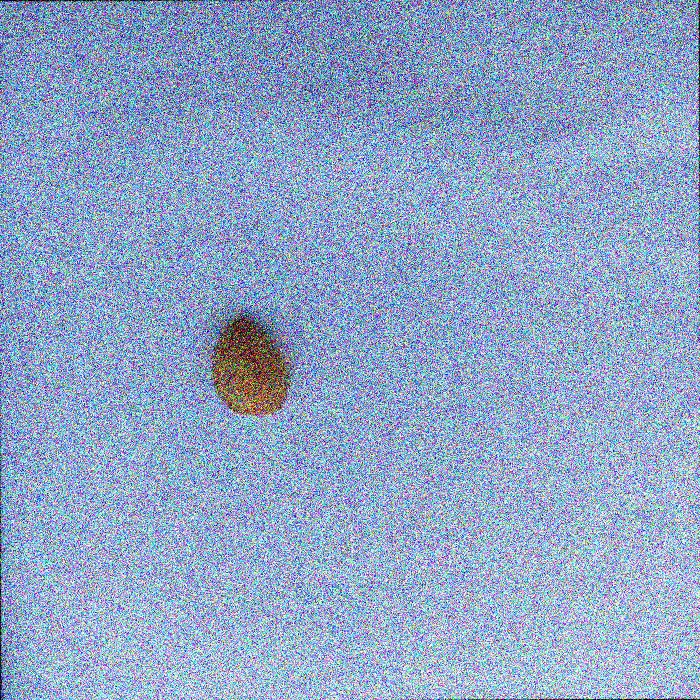grade2: (208, 314, 296, 419)
